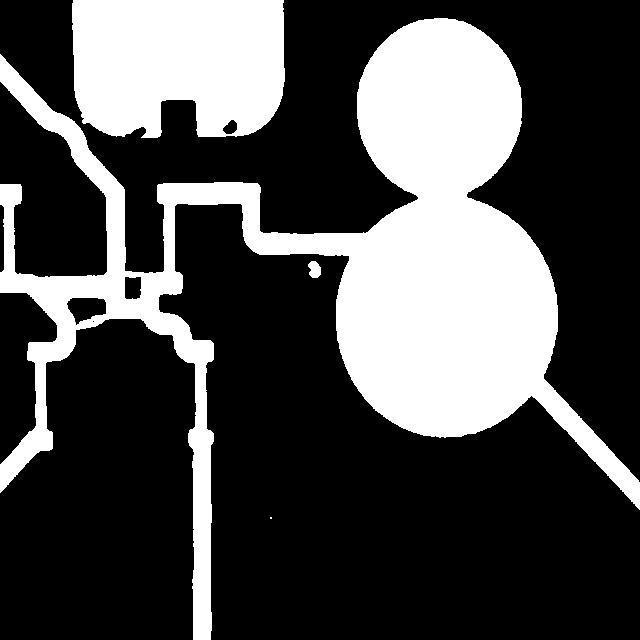copper: (213, 110, 246, 143)
mousebite: (71, 103, 100, 133)
open: (62, 304, 120, 339), (111, 261, 157, 287)
pin-hole: (298, 251, 330, 287)
spur: (115, 117, 155, 148)
